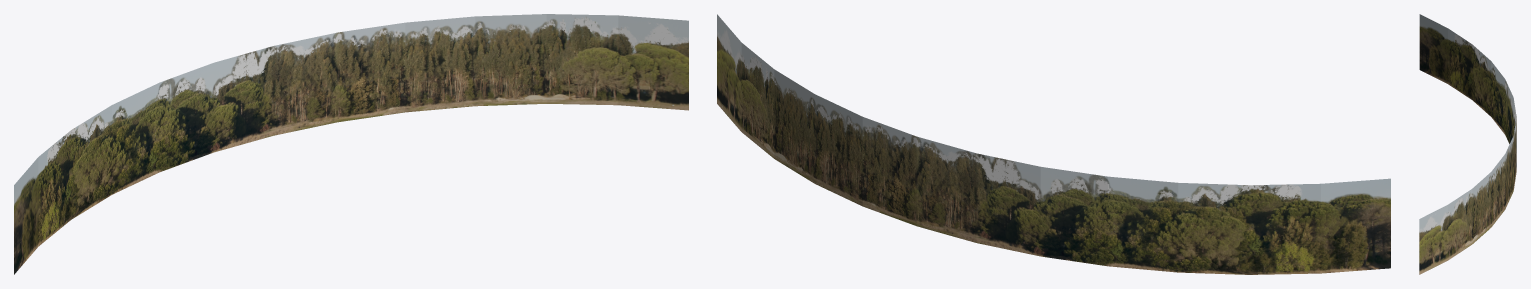
Rendered from Background+08.glb.
The picture shows the model from 3 angles, left to right: view 1: azimuth 30°, elevation 25°; view 2: azimuth 150°, elevation 25°; view 3: azimuth 270°, elevation 25°; orthographic projection. The views are drawn at different scales.
Visible parts, largest first — view 1: Sketchup; view 2: Sketchup; view 3: Sketchup.
Part boxes in pixels (left/top/right/bottom): Sketchup: left=14, top=14, right=688, bottom=274; Sketchup: left=717, top=14, right=1390, bottom=274; Sketchup: left=1419, top=14, right=1516, bottom=274.
Size of the model in its own units: 74.96 by 9.54 by 15.
1 material, 1 textured.
